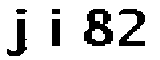2: (118, 4, 147, 52)
8: (79, 6, 117, 50)
i: (43, 5, 67, 53)
j: (2, 6, 33, 60)
